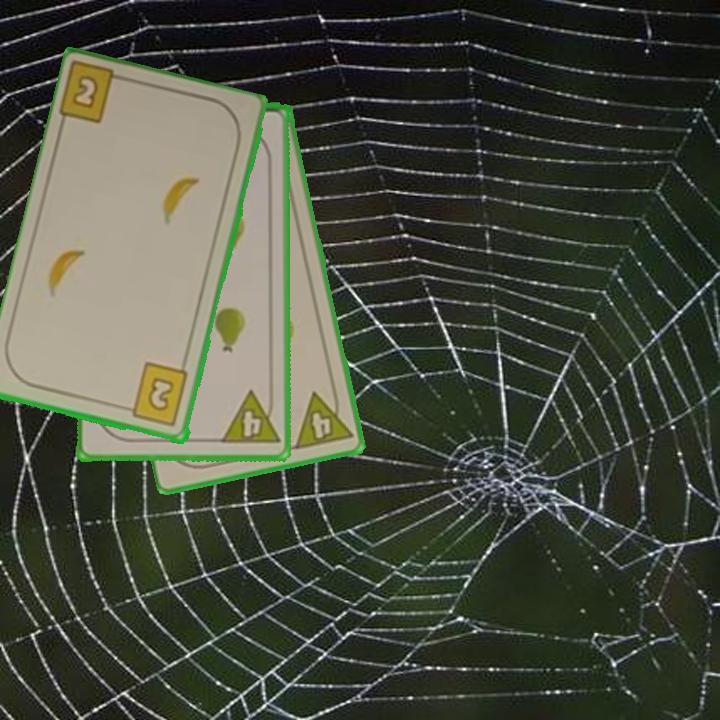2b: (120, 360, 192, 430), (57, 61, 133, 127)
4p: (291, 384, 356, 453), (217, 387, 282, 448)
